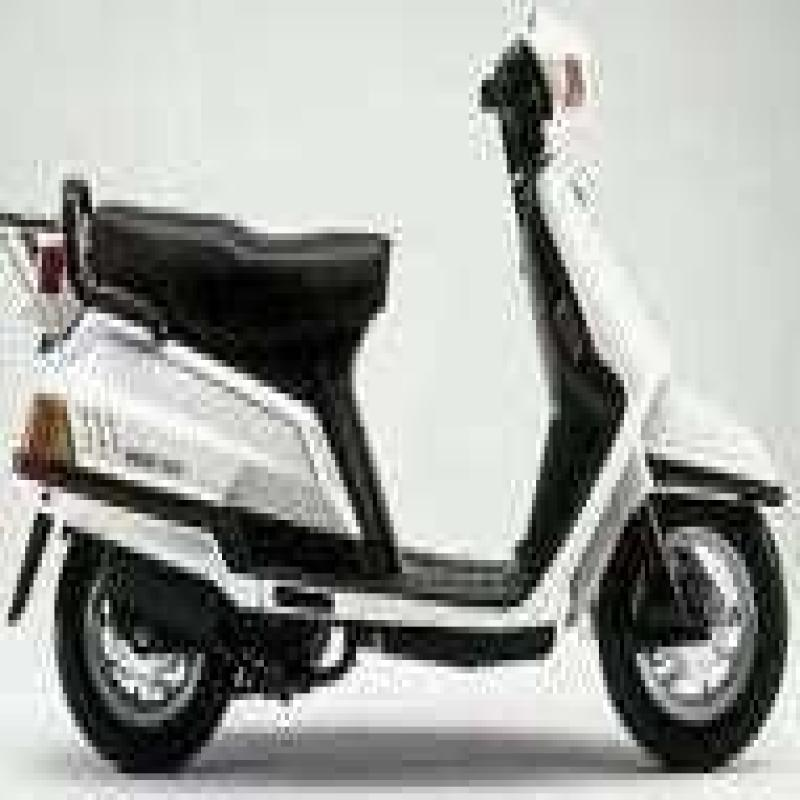bike: (16, 0, 796, 800)
